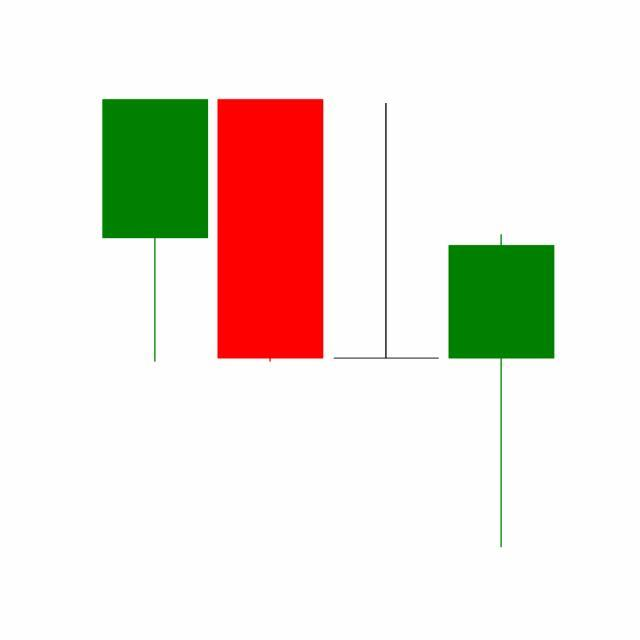Gravestone Doji: (329, 101, 445, 362)
